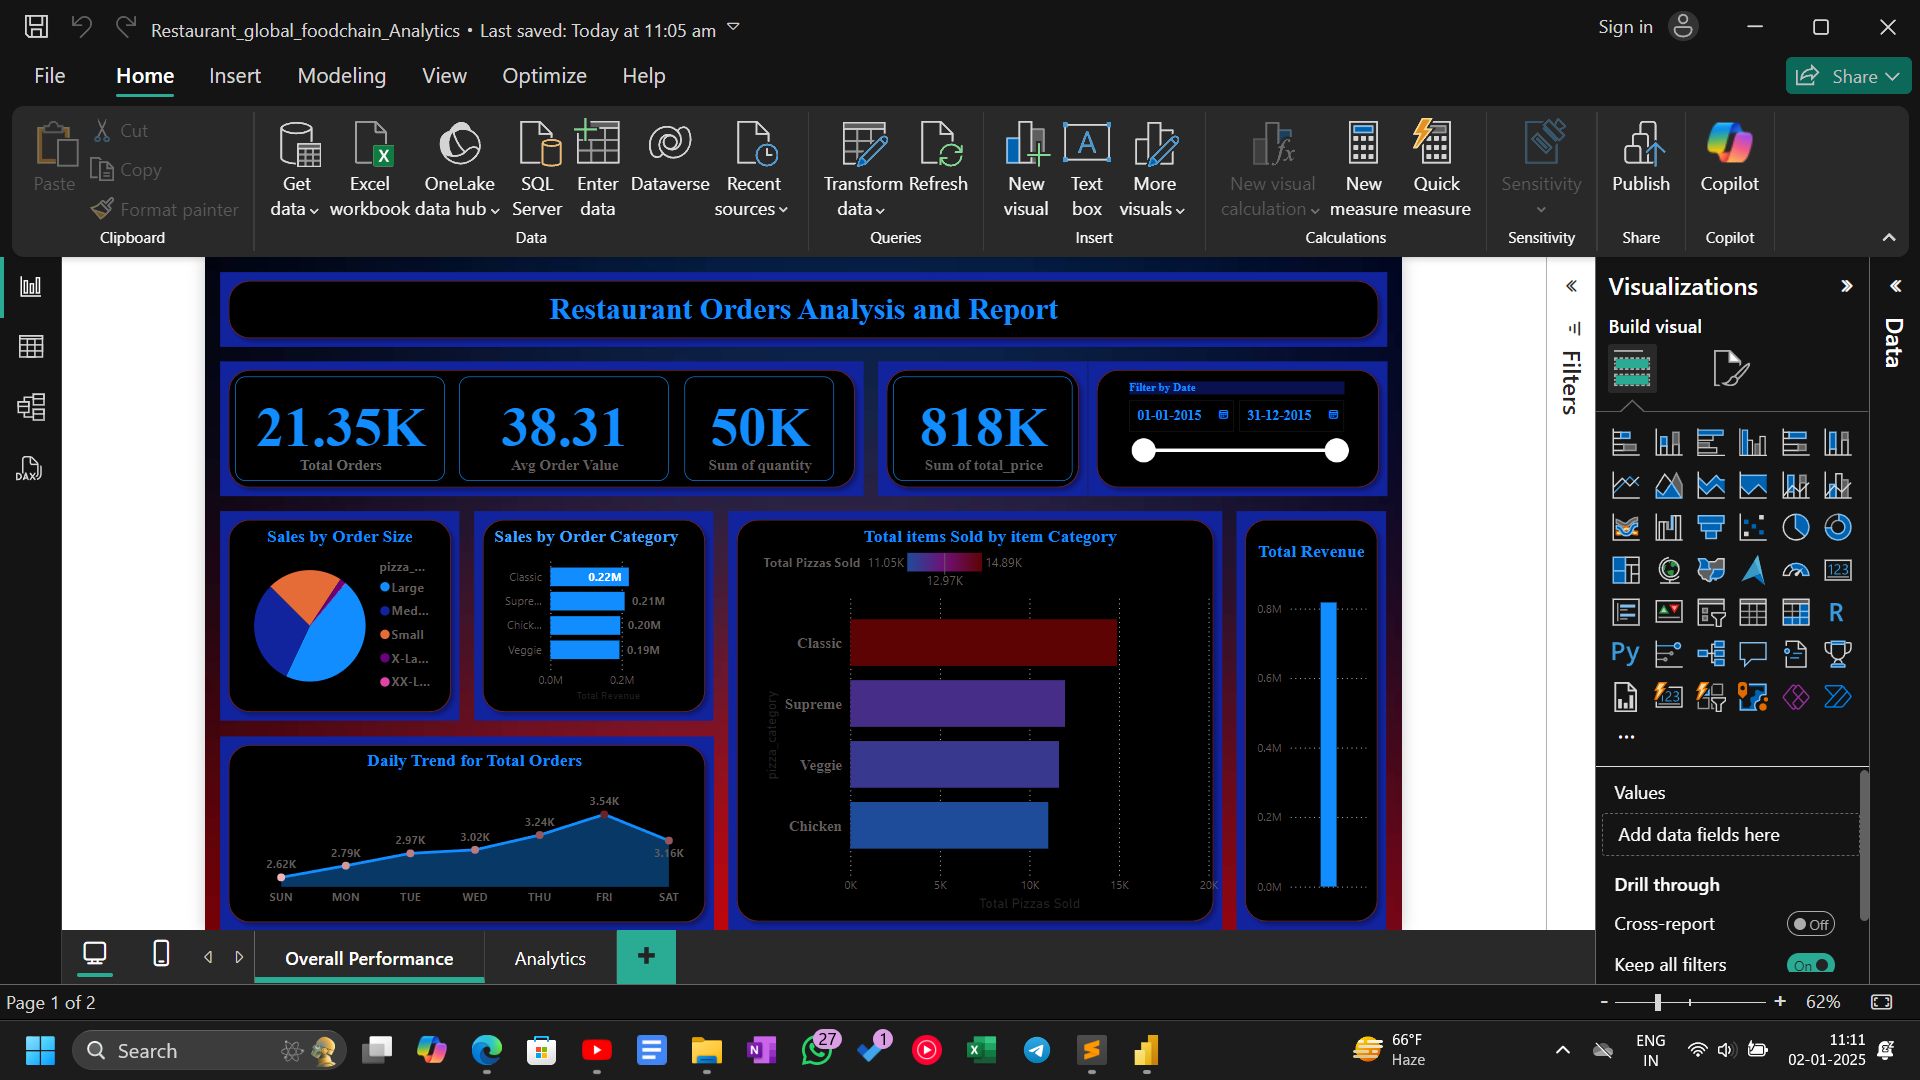

What the dashboard file says about the page in this screenshot:
{"tool":"powerbi","page":{"name":"Overall Performance","canvas":[1280,720],"ordinal":0},"visuals":[{"type":"shape","box":[16,16,1248,80],"z":0},{"type":"shape","box":[288,272,256,224],"z":1000},{"type":"shape","box":[16,112,688,144],"z":2000},{"type":"shape","box":[560,272,528,448],"z":3000},{"type":"shape","box":[16,272,256,224],"z":4000},{"type":"shape","box":[16,512,528,208],"z":5000},{"type":"shape","box":[720,112,224,144],"z":6000},{"type":"shape","box":[1104,272,160,448],"z":7000},{"type":"shape","box":[944,112,320,144],"z":8000},{"type":"textbox","box":[48,32,1184,64],"z":9000},{"type":"areaChart","title":"Daily Trend for Total Orders","fields":{"Category":["pizza_sales.Day "],"Y":["pizza_sales.Total Orders"]},"box":[48,528,480,176],"z":10000},{"type":"barChart","title":"Sales by Order Category","fields":{"Category":["pizza_sales.pizza_category"],"Y":["Restaurant_units.Total Revenue"]},"box":[304,288,208,192],"z":11000},{"type":"pieChart","title":"Sales by Order Size","fields":{"Y":["pizza_sales.Total Revenue"],"Category":["pizza_sales.pizza_size"]},"box":[32,288,224,192],"z":12000},{"type":"barChart","title":"Total items Sold by item Category","fields":{"Category":["pizza_sales.pizza_category"],"Y":["pizza_sales.Total Pizzas Sold"]},"box":[592,288,496,416],"z":13000},{"type":"card","fields":{"Values":["Restaurant_units.Total Orders"]},"box":[32,128,224,112],"z":14000},{"type":"columnChart","fields":{"Y":["Restaurant_units.Total Revenue"]},"box":[1120,304,128,384],"z":15000},{"type":"card","fields":{"Values":["Restaurant_units.Avg Order Value"]},"box":[272,128,224,112],"z":16000},{"type":"card","fields":{"Values":["Sum(Restaurant_units.quantity)"]},"box":[512,128,160,112],"z":17000},{"type":"slicer","fields":{"Values":["pizza_sales.order_date"]},"box":[976,128,256,112],"z":18000},{"type":"card","fields":{"Values":["Sum(Restaurant_units.total_price)"]},"box":[736,128,192,112],"z":19000}]}

Visuals, with their boxes on the page's 1280x720 design canvas (x1, y1, x2, y2). These are canvas units, not pixel positions in the 1920x1080 screenshot, which may show the page scaled, cropped or inside an application window:
shape: (left=16, top=16, right=1264, bottom=96)
shape: (left=288, top=272, right=544, bottom=496)
shape: (left=16, top=112, right=704, bottom=256)
shape: (left=560, top=272, right=1088, bottom=720)
shape: (left=16, top=272, right=272, bottom=496)
shape: (left=16, top=512, right=544, bottom=720)
shape: (left=720, top=112, right=944, bottom=256)
shape: (left=1104, top=272, right=1264, bottom=720)
shape: (left=944, top=112, right=1264, bottom=256)
textbox: (left=48, top=32, right=1232, bottom=96)
"Daily Trend for Total Orders" areaChart: (left=48, top=528, right=528, bottom=704)
"Sales by Order Category" barChart: (left=304, top=288, right=512, bottom=480)
"Sales by Order Size" pieChart: (left=32, top=288, right=256, bottom=480)
"Total items Sold by item Category" barChart: (left=592, top=288, right=1088, bottom=704)
card - Restaurant_units.Total Orders: (left=32, top=128, right=256, bottom=240)
columnChart - Restaurant_units.Total Revenue: (left=1120, top=304, right=1248, bottom=688)
card - Restaurant_units.Avg Order Value: (left=272, top=128, right=496, bottom=240)
card - Sum(Restaurant_units.quantity): (left=512, top=128, right=672, bottom=240)
slicer - pizza_sales.order_date: (left=976, top=128, right=1232, bottom=240)
card - Sum(Restaurant_units.total_price): (left=736, top=128, right=928, bottom=240)
